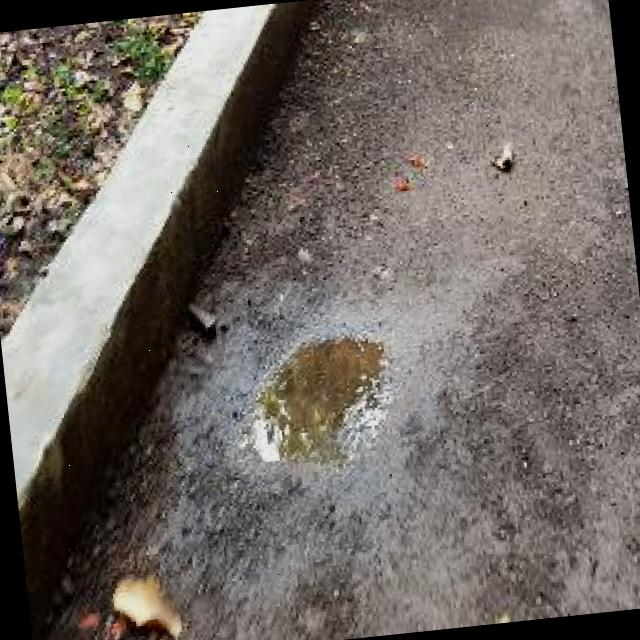waterlogging: (234, 318, 404, 475)
